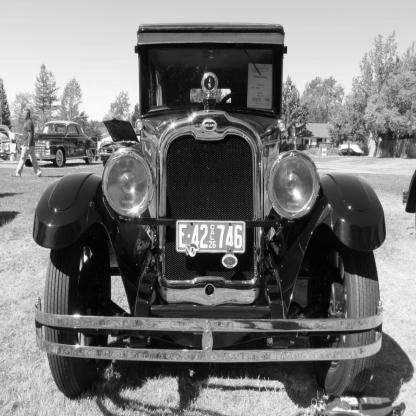car: (40, 23, 412, 397)
